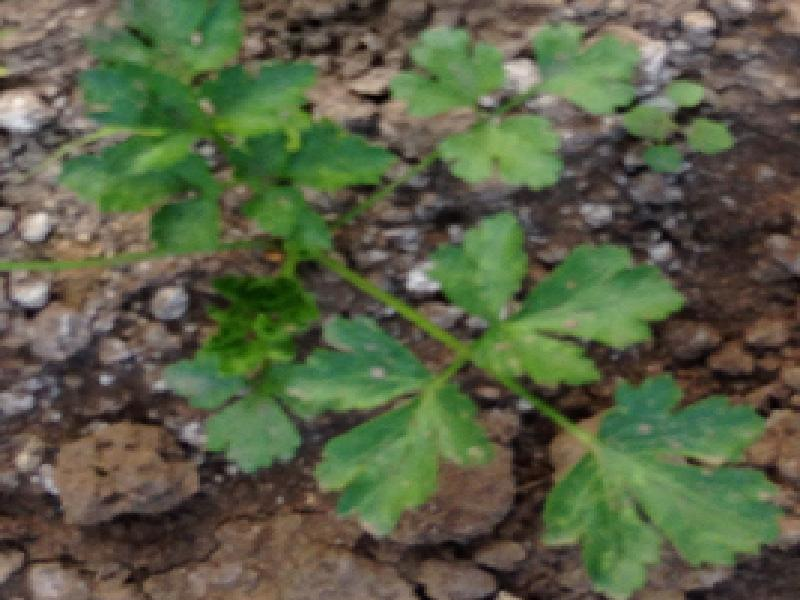radish: (0, 0, 724, 600)
